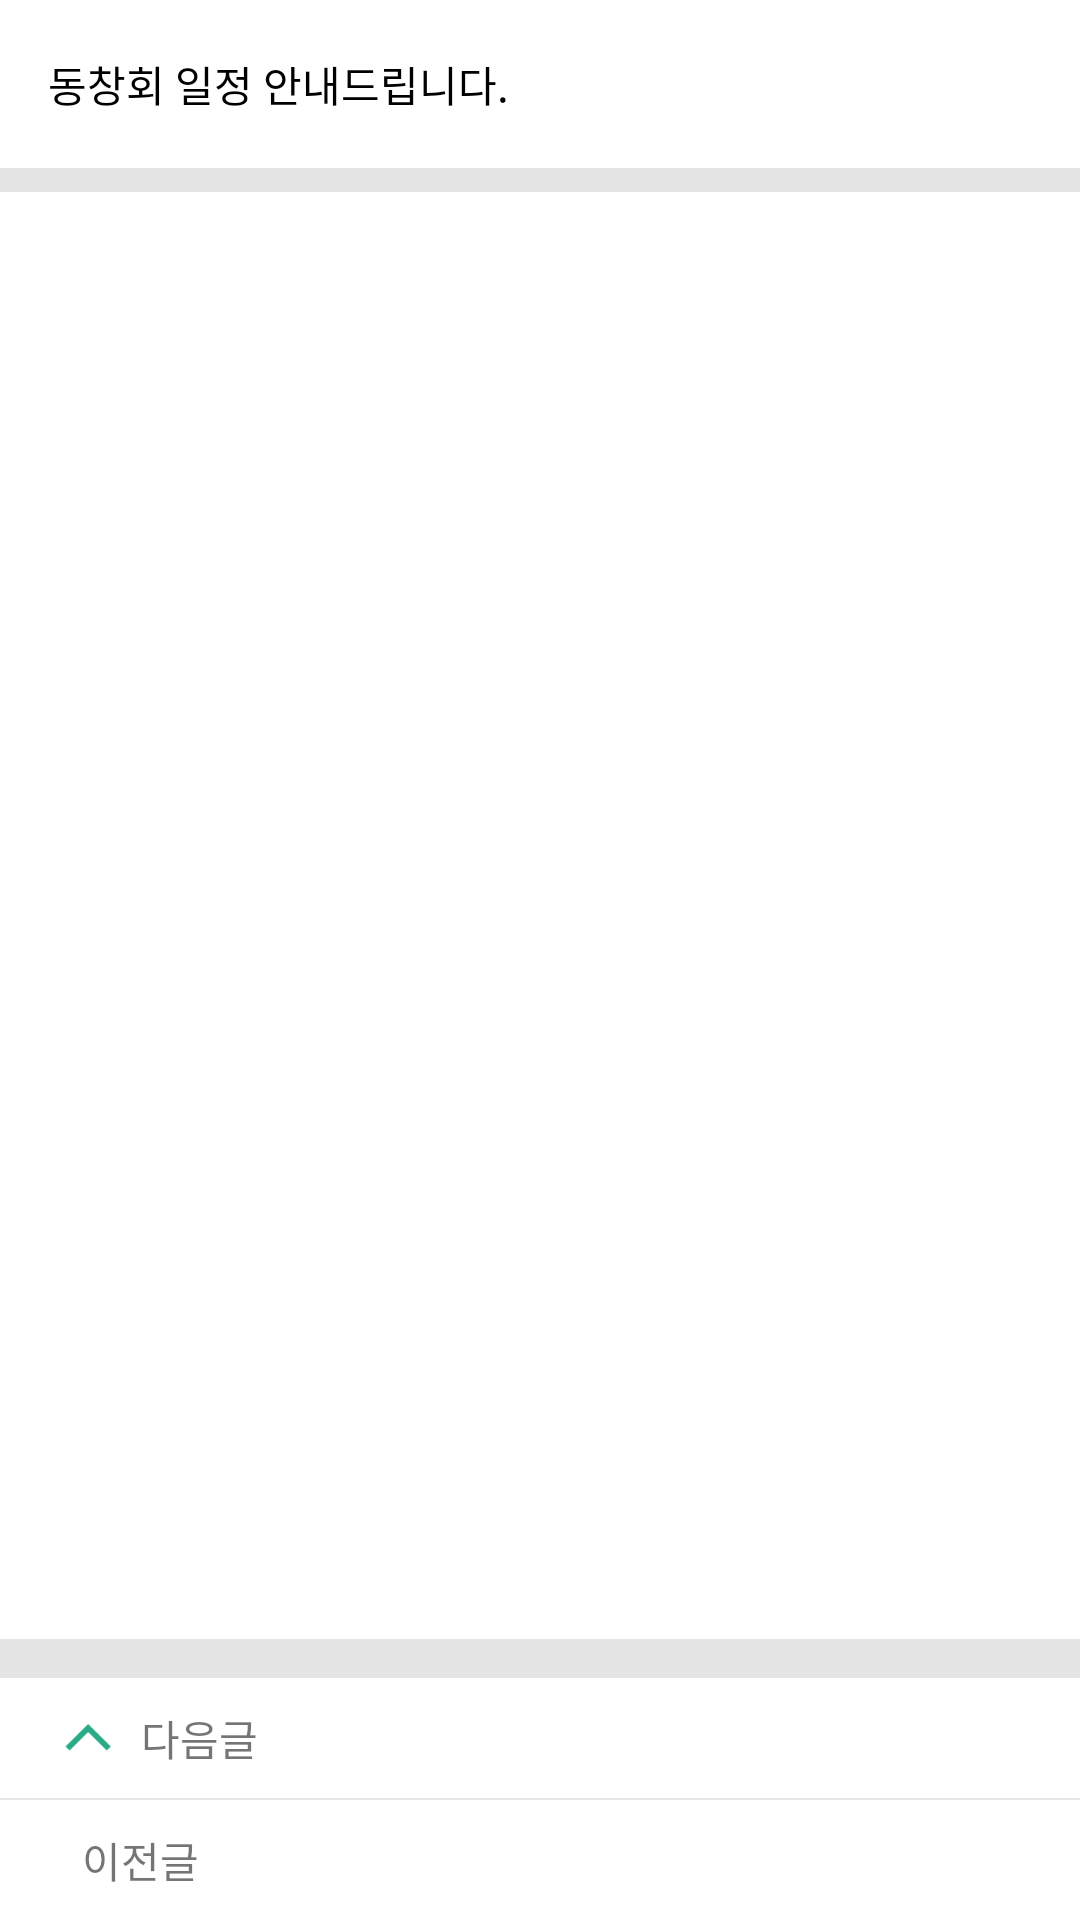

Named icons in this screenshot (1080px x 1920px) and their centers, [x,y]:
arrow up: [88,1737]
